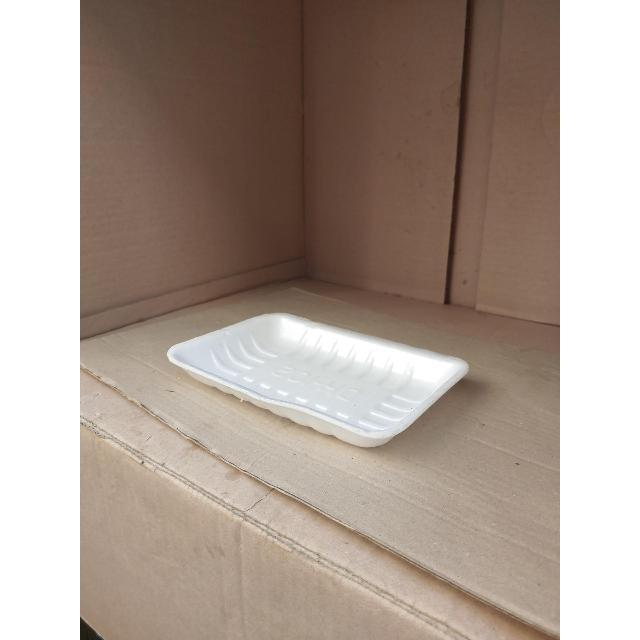Plastico descartable: (167, 313, 469, 449)
